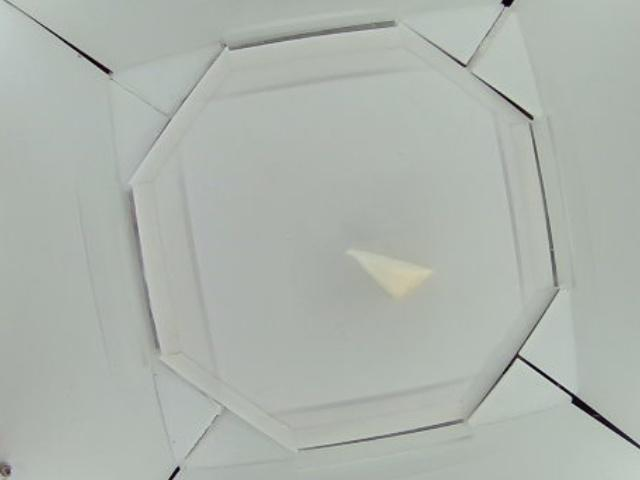Mooli: (344, 249, 434, 295)
